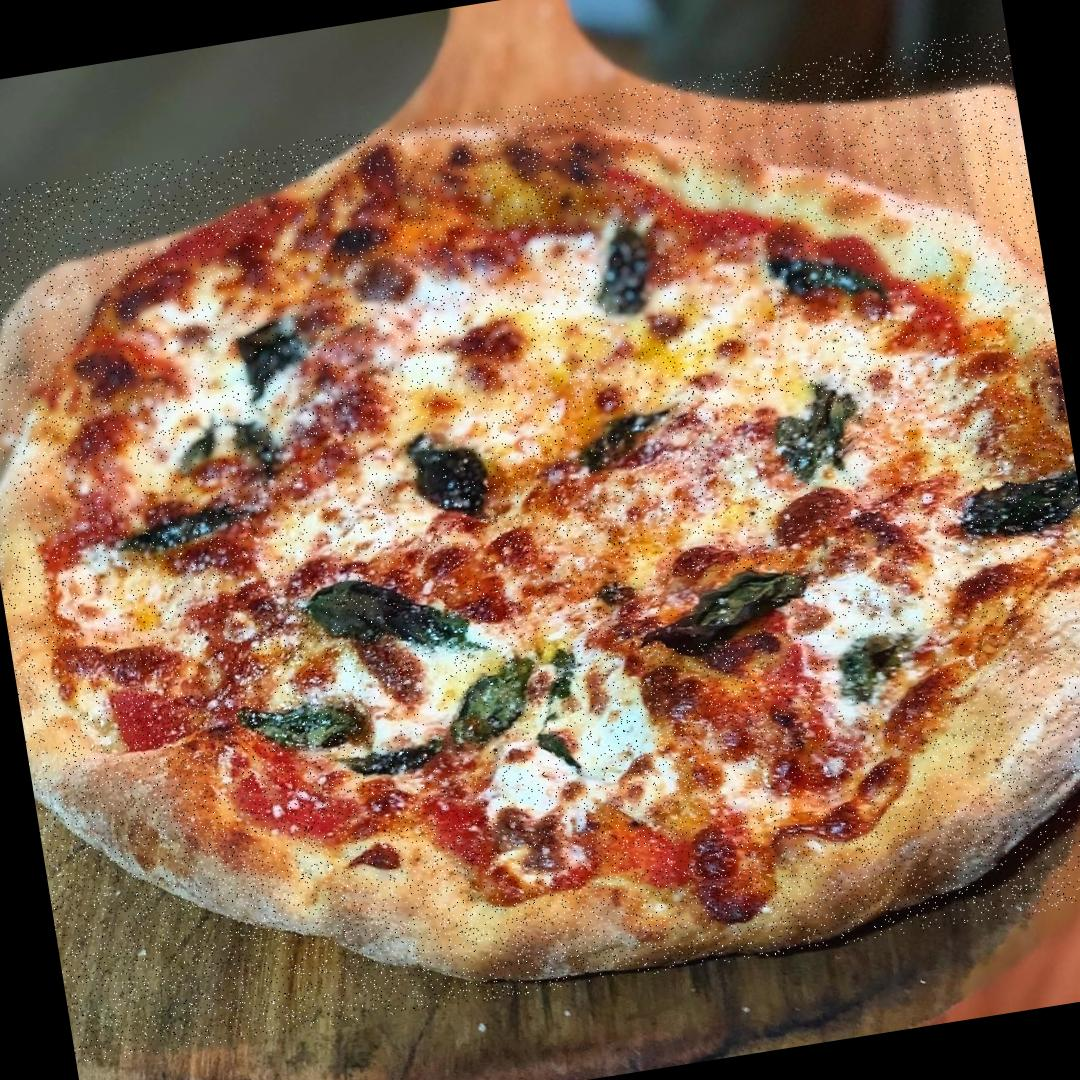Arugula: (350, 666, 552, 787), (306, 571, 472, 668), (766, 235, 902, 330), (389, 415, 498, 526), (236, 684, 376, 768), (656, 564, 793, 648), (748, 385, 857, 490), (112, 491, 268, 562), (950, 463, 1080, 546), (831, 629, 936, 711), (182, 411, 286, 492), (579, 400, 678, 474), (230, 307, 320, 386), (594, 224, 661, 325)
Pizza: (0, 29, 1080, 1066)
